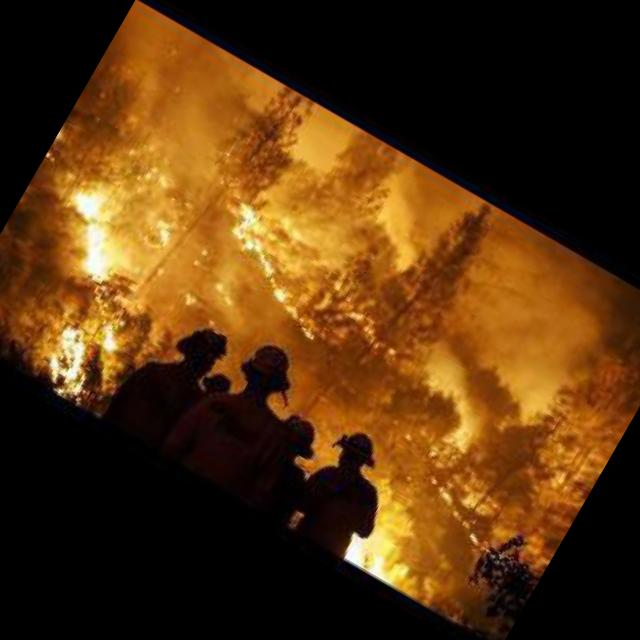fire: (0, 78, 618, 628)
